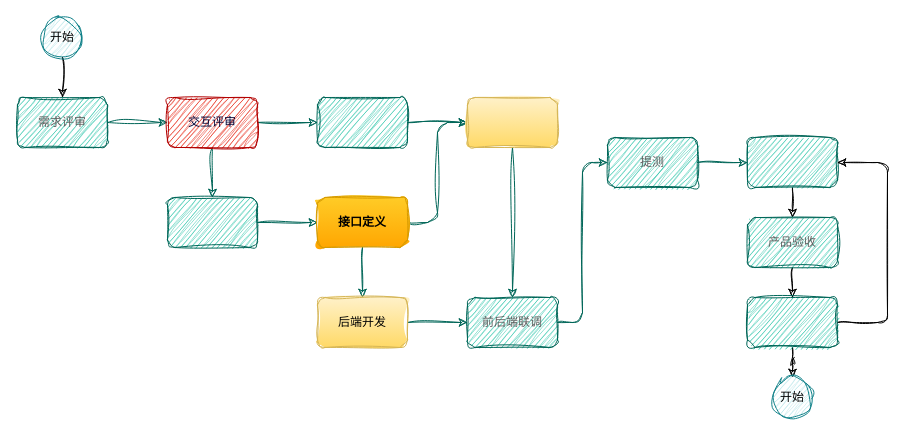
This 913x435 diagram has some shape labels left out. The centre of each missing label's shape, as x and y in pixels:
上线: (x=792, y=322)
前端开发: (x=512, y=122)
技术方案评审: (x=212, y=222)
测试: (x=792, y=162)
视觉评审: (x=362, y=122)
